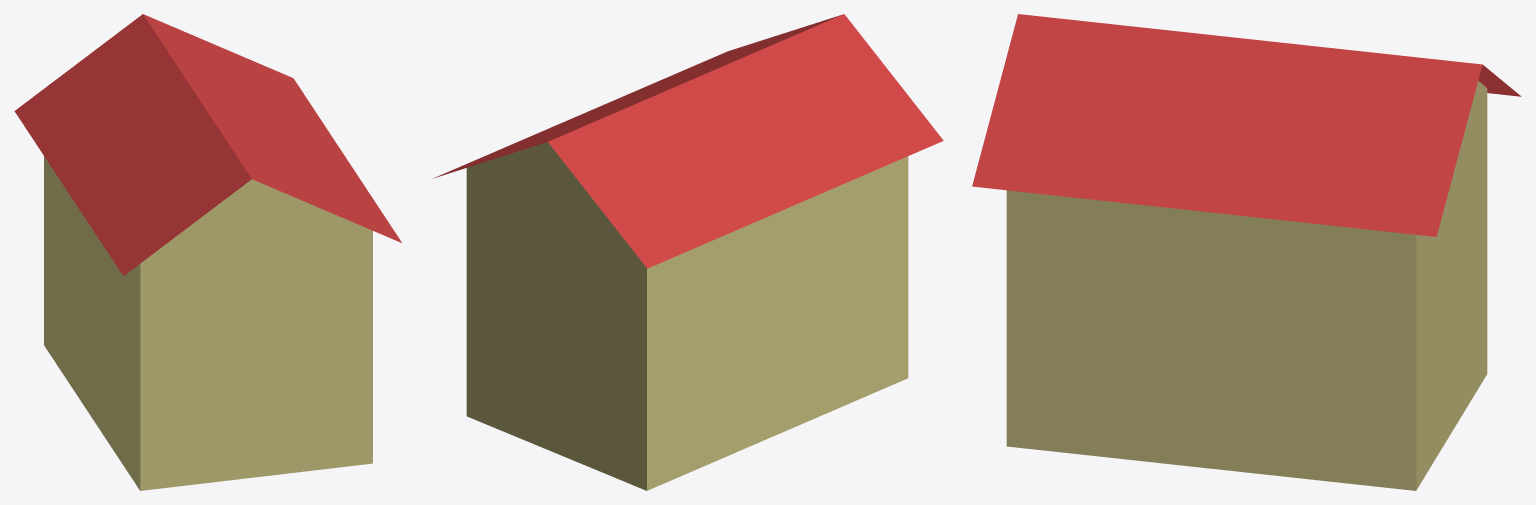
3 renders of one model, left to right at view 1: azimuth 30°, elevation 25°; view 2: azimuth 150°, elevation 25°; view 3: azimuth 270°, elevation 25°, orthographic. The views are drawn at different scales.
Size of the model in its own units: 11.9 by 14.5 by 10.64.
